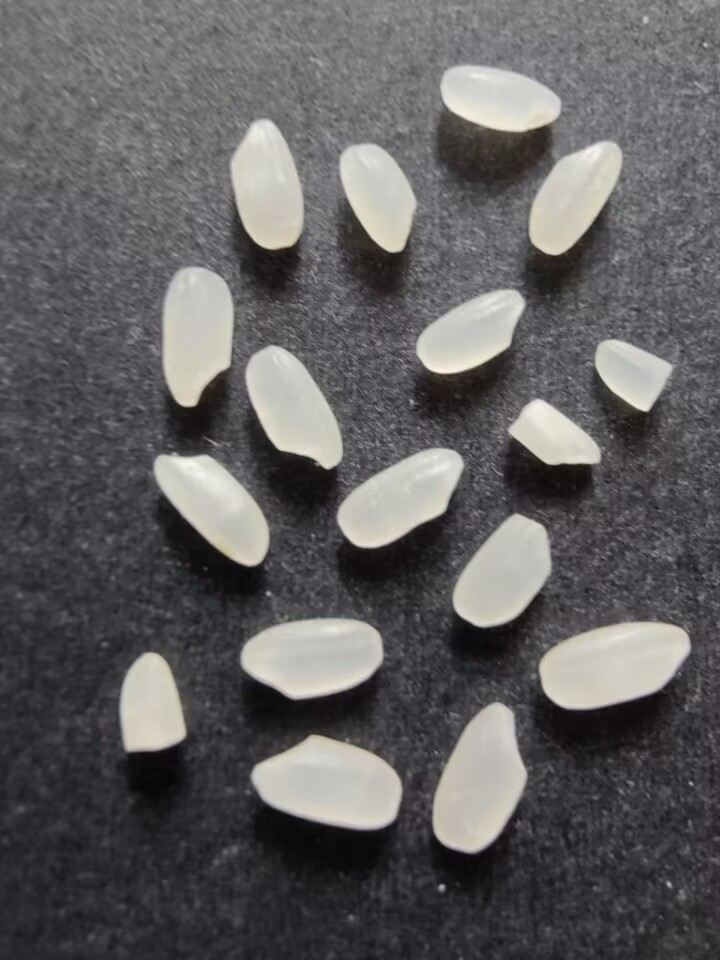broken: (112, 647, 191, 757), (502, 394, 602, 469), (590, 336, 679, 415)
rice: (246, 731, 409, 836), (428, 698, 531, 858), (535, 617, 696, 714), (150, 449, 274, 574), (333, 443, 471, 549), (243, 341, 346, 470), (448, 509, 556, 632), (237, 617, 388, 704), (526, 136, 628, 256), (159, 262, 236, 412), (225, 116, 308, 254), (411, 285, 530, 375), (333, 138, 422, 257), (434, 59, 566, 134)
